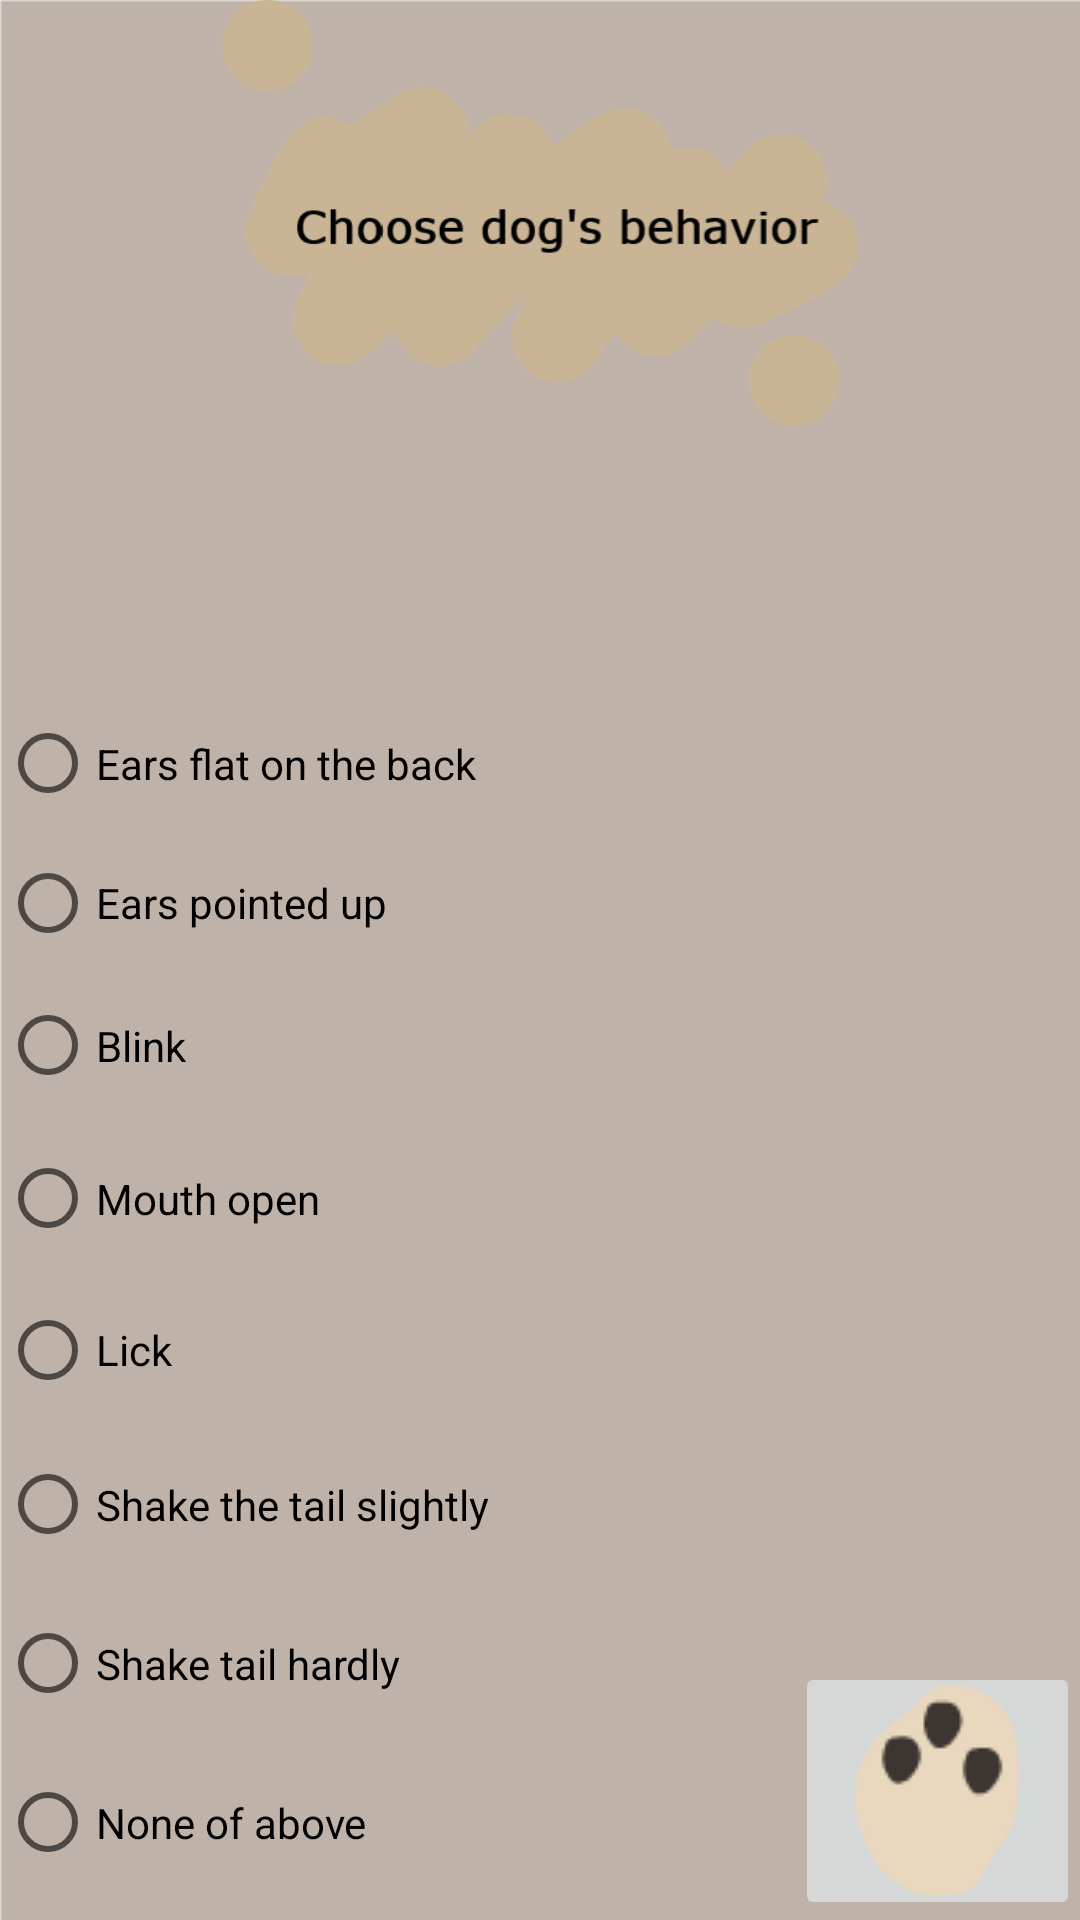

Named icons in this screenshot (1080×1920) and their bounding boxes, (x1, y1, x2, y2):
pawbutton: (807, 1680, 1068, 1902)
